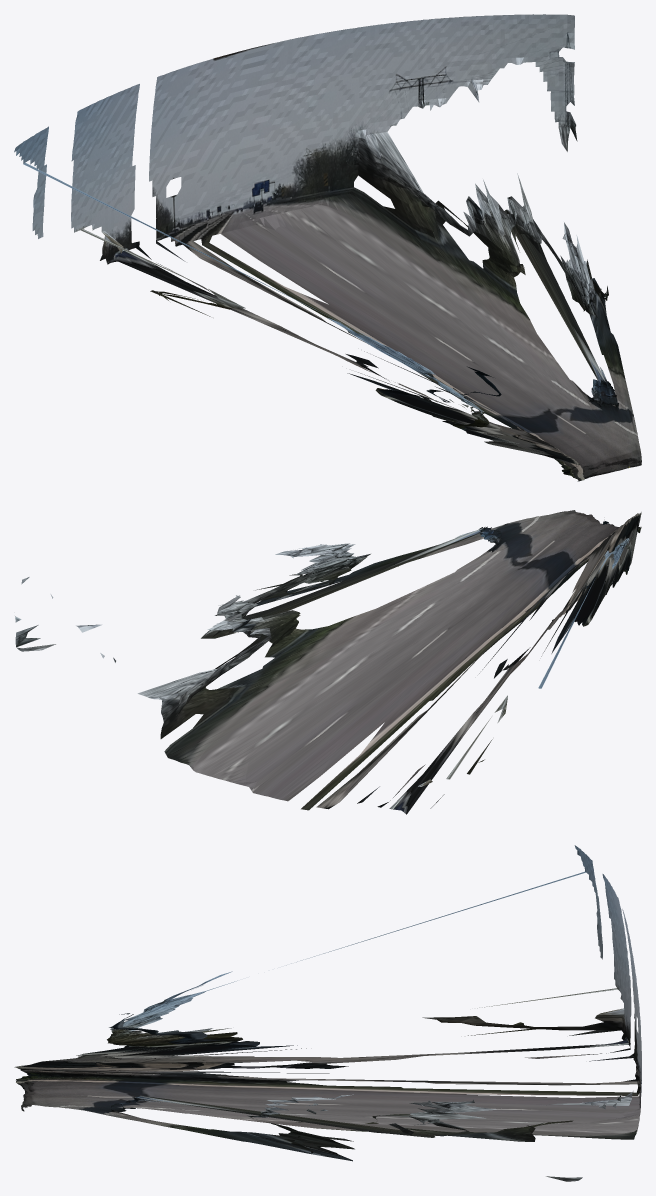
3 views of the same model, one above another, from view 1: azimuth 30°, elevation 25°; view 2: azimuth 150°, elevation 25°; view 3: azimuth 270°, elevation 25° (orthographic). The views are drawn at different scales.
Parts seen in each view (by area): view 1: defaultobject; view 2: defaultobject; view 3: defaultobject.
Part boxes in pixels (bbox=[...]): defaultobject: bbox=[14, 14, 641, 481]; defaultobject: bbox=[15, 510, 641, 814]; defaultobject: bbox=[14, 845, 641, 1181].
Size of the model in its own units: 39.94 by 12.85 by 44.84.
Materials: 1 (1 with a texture image).
